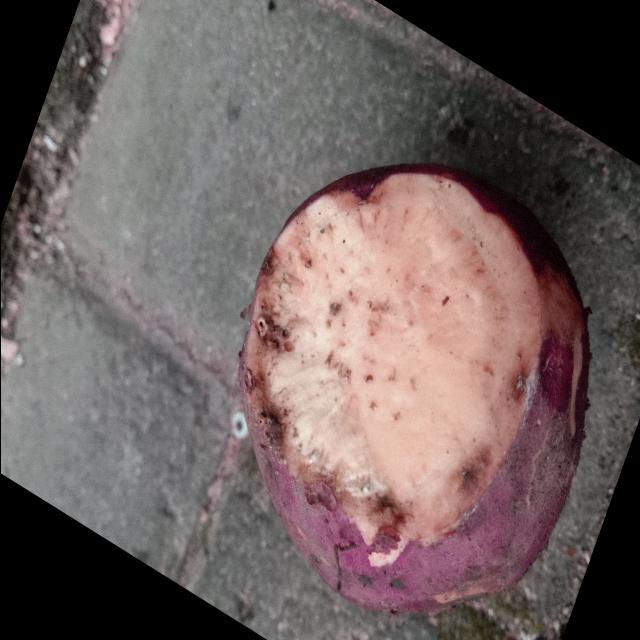Sick Sweet Potato_Tuber Rot: (242, 173, 539, 545)
